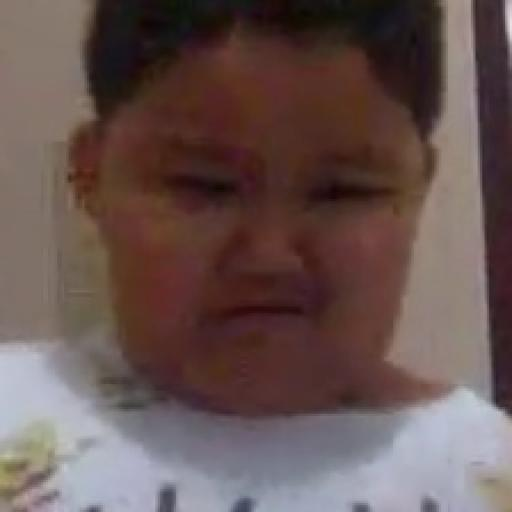Autism: (64, 0, 430, 442)
